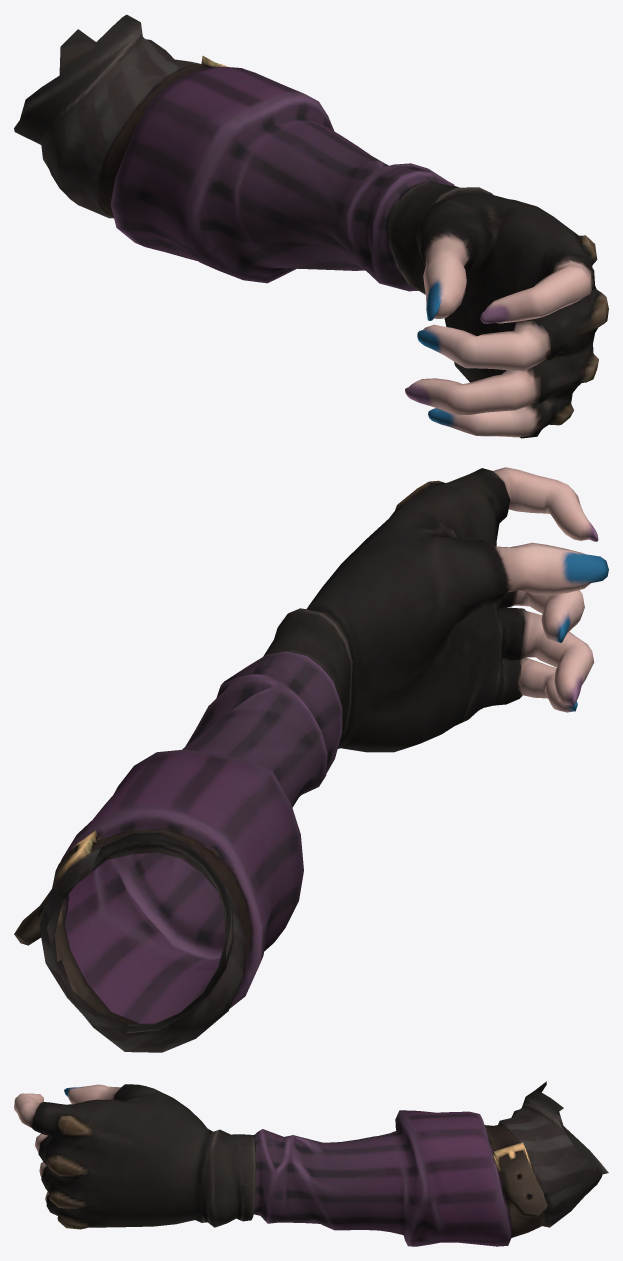
Rendered from HandL.fbx.
3 views of the same model, one above another, from view 1: azimuth 30°, elevation 25°; view 2: azimuth 150°, elevation 25°; view 3: azimuth 270°, elevation 25° (orthographic). The views are drawn at different scales.
Parts seen in each view (by area): view 1: jin.005; view 2: jin.005; view 3: jin.005.
Part boxes in pixels (x1=…): jin.005: x1=14, y1=14, x2=608, y2=438; jin.005: x1=14, y1=467, x2=608, y2=1052; jin.005: x1=14, y1=1081, x2=608, y2=1246.
Bounding box in the file's own units: 12.79 × 12.64 × 43.18.
1 material, 1 textured.
